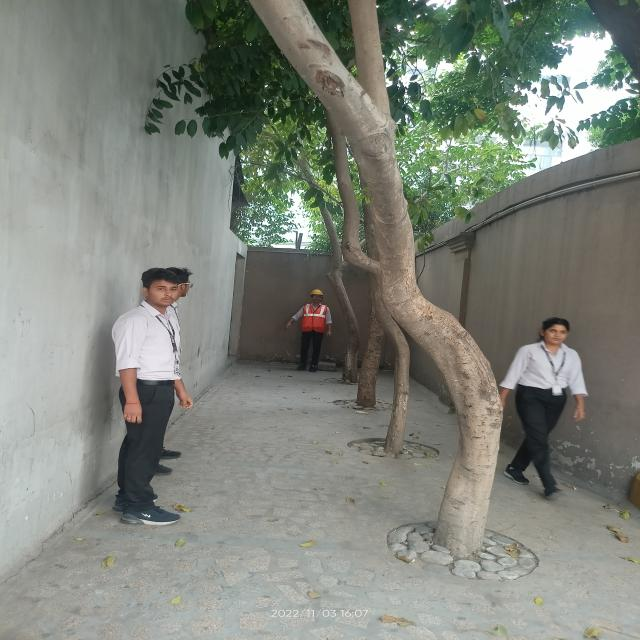safe: (285, 289, 332, 373)
unsafe: (114, 268, 185, 524), (500, 316, 587, 499)
